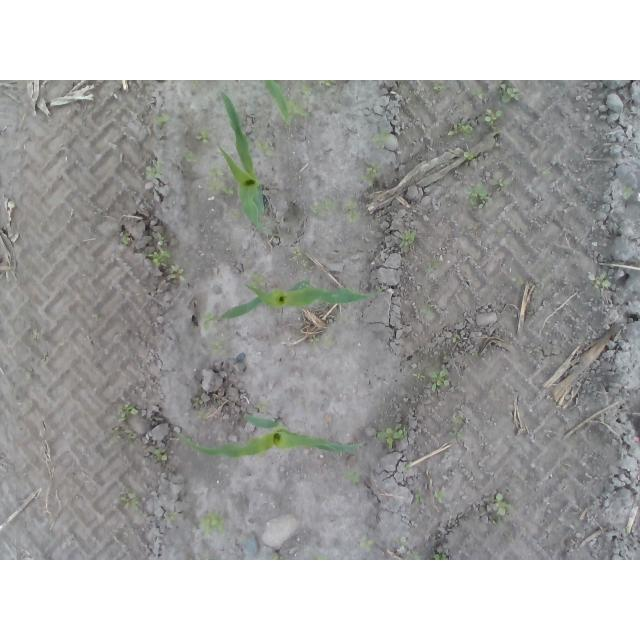Maize: (177, 414, 363, 459), (216, 89, 270, 236), (214, 277, 383, 323), (261, 80, 312, 125)
Weeds: (209, 166, 236, 197), (374, 423, 406, 449), (429, 368, 452, 393), (199, 512, 226, 533), (498, 81, 521, 103), (467, 185, 488, 208), (146, 245, 170, 265), (310, 199, 337, 216), (363, 162, 382, 186), (494, 493, 513, 516), (309, 334, 338, 349), (449, 414, 466, 439), (254, 136, 274, 156), (588, 272, 613, 288), (344, 199, 360, 224), (117, 403, 138, 421), (119, 495, 141, 512), (399, 229, 418, 248), (453, 119, 473, 137), (113, 425, 138, 439), (483, 109, 505, 124), (358, 536, 376, 554), (144, 160, 161, 179), (249, 272, 268, 289), (168, 263, 184, 281), (202, 312, 215, 334), (152, 446, 169, 462), (432, 490, 449, 505), (492, 177, 512, 189), (193, 129, 210, 143), (155, 112, 172, 126), (119, 232, 134, 247), (372, 128, 386, 144), (303, 85, 322, 96), (397, 537, 408, 555), (424, 259, 438, 273), (208, 341, 223, 354), (191, 396, 205, 409), (311, 552, 330, 561), (255, 400, 269, 412), (620, 185, 632, 199), (411, 370, 425, 382), (344, 471, 360, 481), (470, 86, 482, 99), (511, 277, 525, 288), (183, 150, 194, 163), (165, 510, 178, 521), (292, 247, 305, 257), (462, 151, 476, 160), (271, 552, 285, 561), (434, 553, 450, 560), (415, 495, 425, 506), (434, 85, 449, 92), (321, 81, 335, 88), (412, 553, 425, 560), (403, 464, 412, 473), (543, 167, 553, 175), (452, 334, 460, 343)
